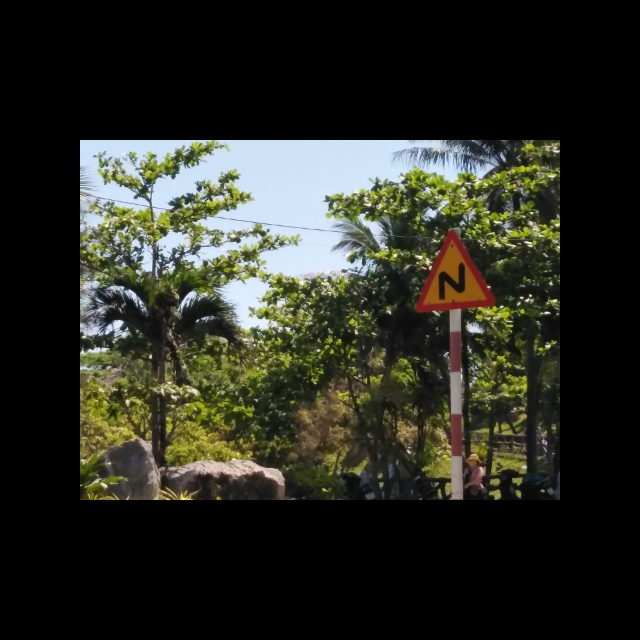Ngoặt nguy hiểm liên tiếp bên phải: (416, 228, 497, 314)
